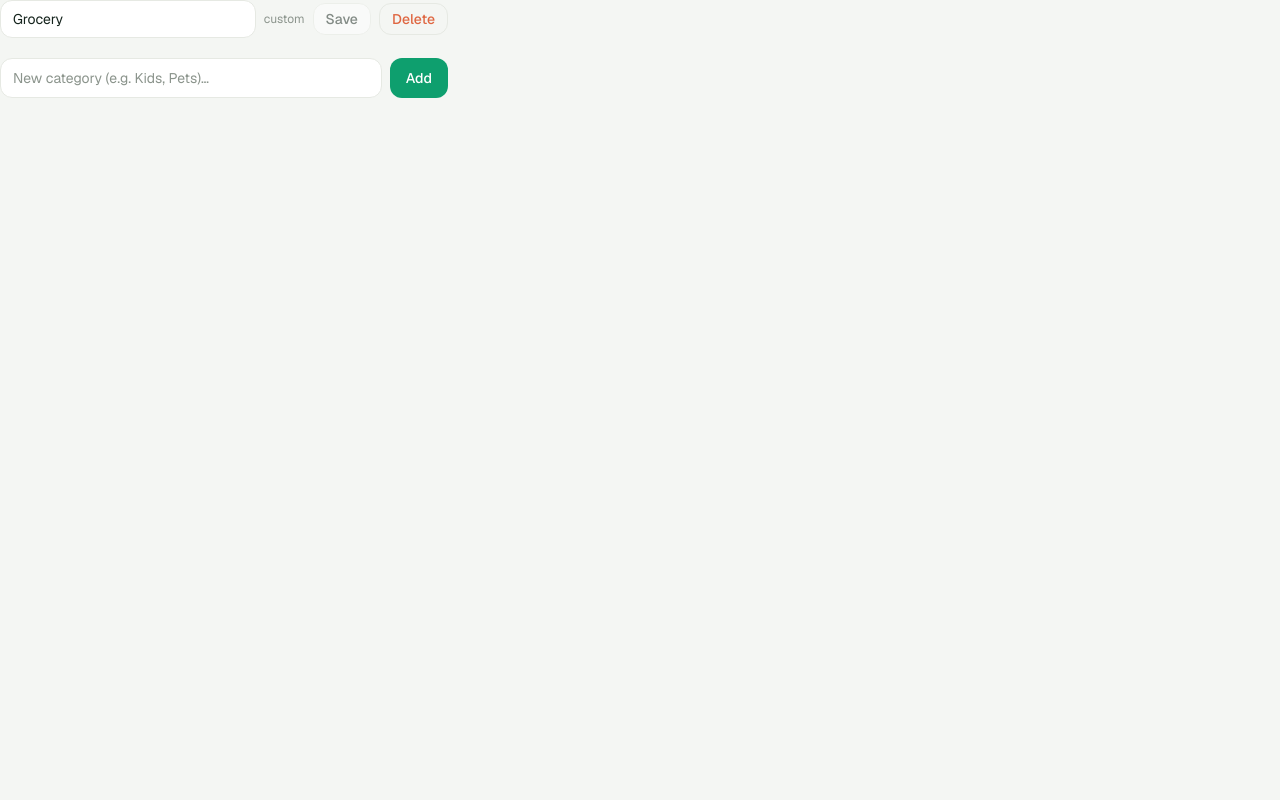
Test: CategoryManager delete dialog › agrees the verb when a delete removes one rule
The image size is (1280, 800).
What coordinates should you click on to do the following:
click the button "Delete"
I would click on:
 (413, 19)
Its box is 379,3 -> 448,35.
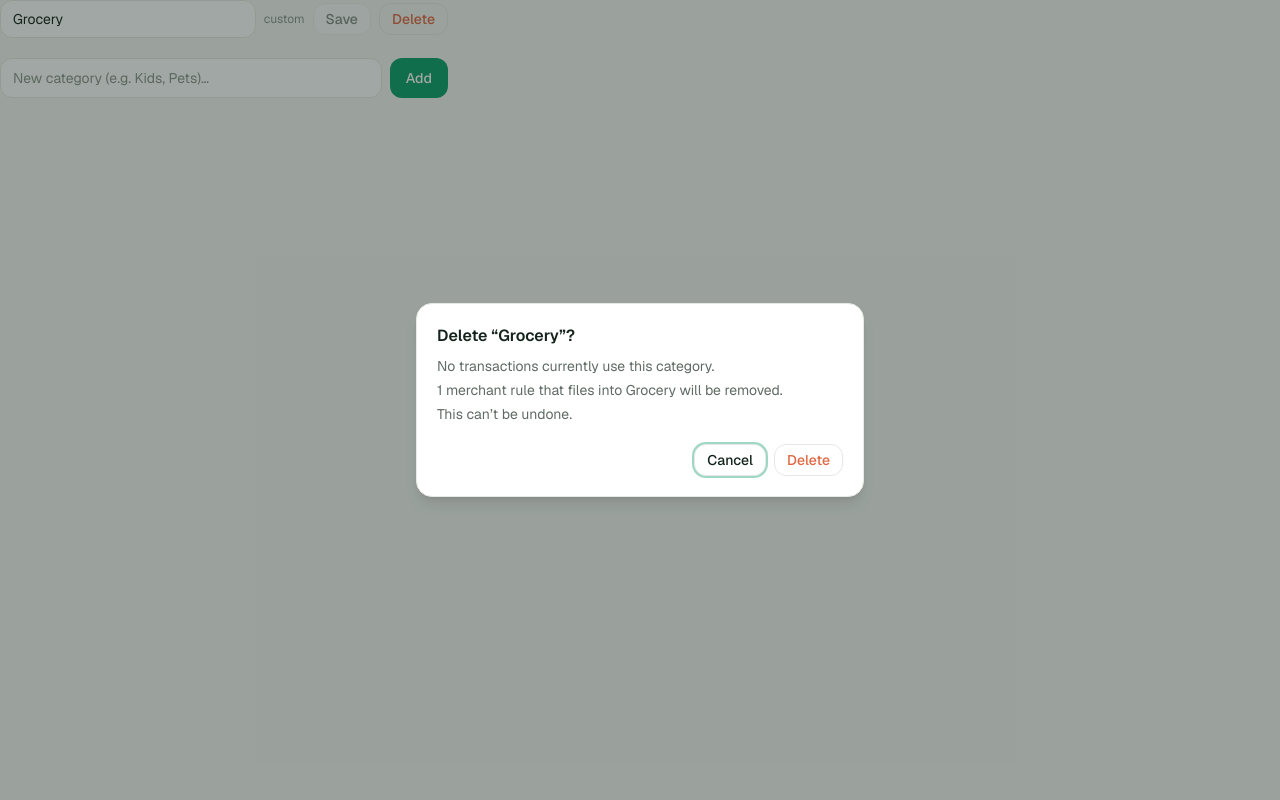
Result: the text "1 merchant rule that files into Grocery will be removed." is shown at 437,380 -> 843,400
